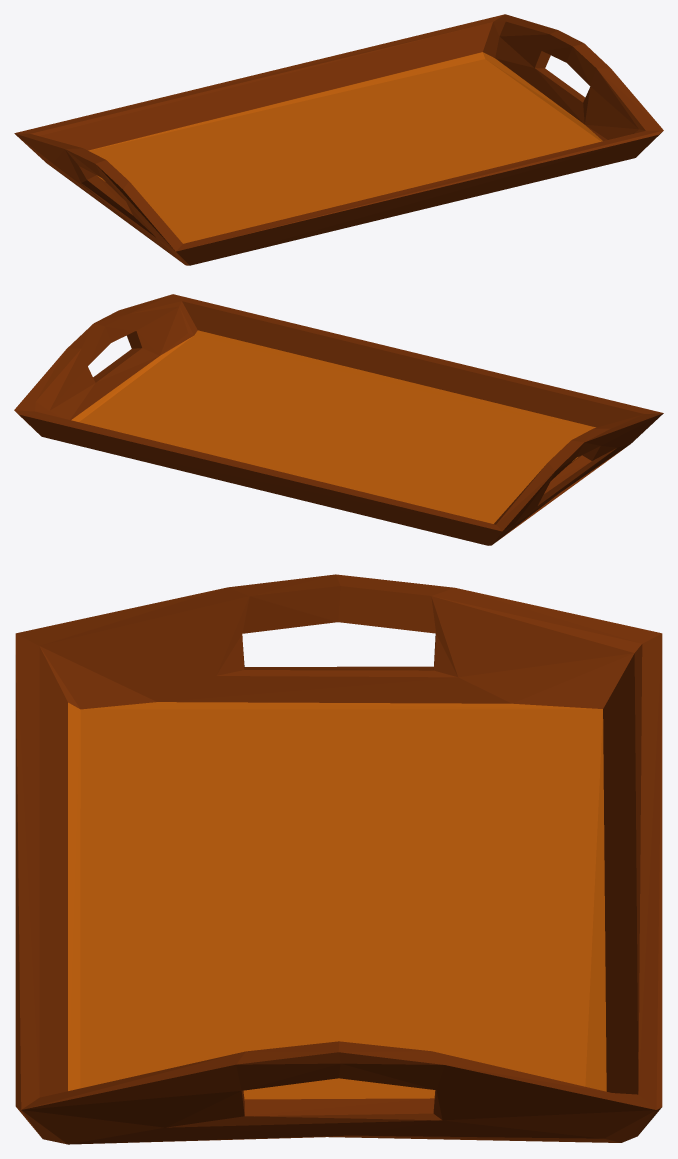
File: Tablet.fbx
3 renders of one model, top to bottom at view 1: azimuth 30°, elevation 25°; view 2: azimuth 150°, elevation 25°; view 3: azimuth 270°, elevation 25°, orthographic. The views are drawn at different scales.
Parts seen in each view (by area): view 1: TabletLowPoly; view 2: TabletLowPoly; view 3: TabletLowPoly.
Part boxes in pixels (x1=…): TabletLowPoly: x1=14, y1=14, x2=663, y2=265; TabletLowPoly: x1=14, y1=294, x2=663, y2=545; TabletLowPoly: x1=15, y1=574, x2=662, y2=1144.
Bounding box in the file's own units: 49.73 × 5.51 × 28.37.
